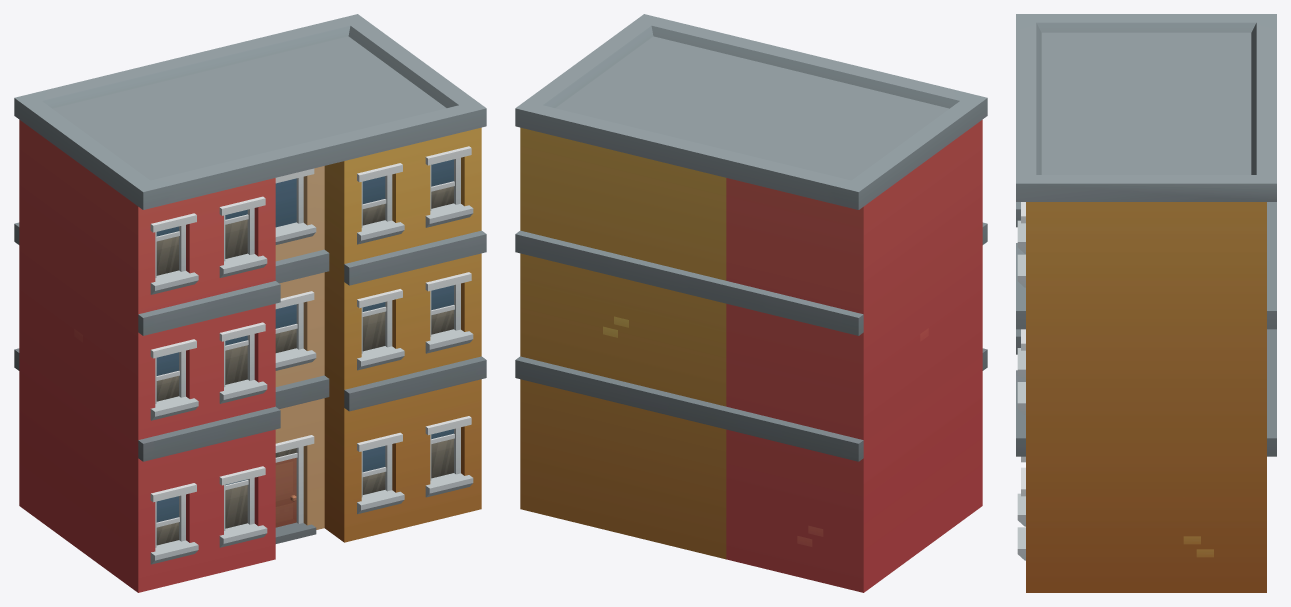
Rendered from building-small.glb.
The picture shows the model from 3 angles, left to right: view 1: azimuth 30°, elevation 25°; view 2: azimuth 150°, elevation 25°; view 3: azimuth 270°, elevation 25°; orthographic projection.
Parts seen in each view (by area): view 1: building_F_withoutBase; view 2: building_F_withoutBase; view 3: building_F_withoutBase.
Boxes of the visible parts, left/top/right/bottom form: building_F_withoutBase: left=14, top=14, right=486, bottom=592; building_F_withoutBase: left=515, top=14, right=987, bottom=592; building_F_withoutBase: left=1016, top=14, right=1276, bottom=592.
Bounding box in the file's own units: 6.24 × 7 × 4.04.
1 material, 1 textured.
